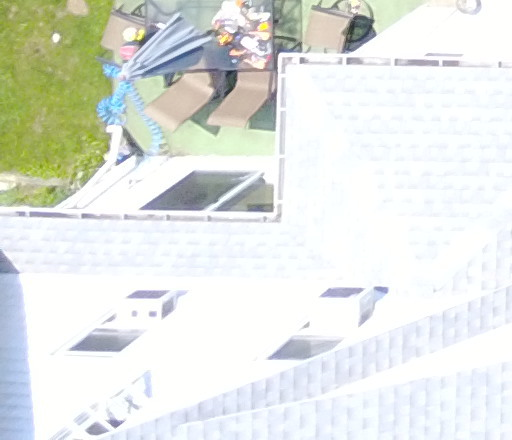clutter: (209, 1, 283, 73)
